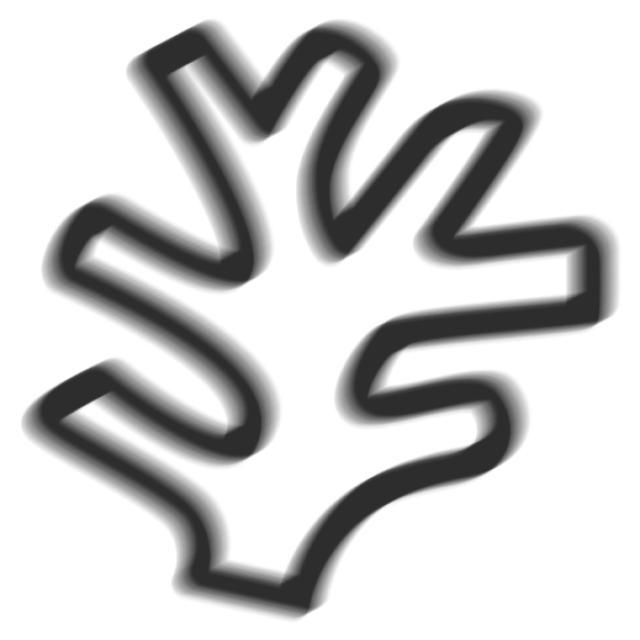coral: (10, 10, 632, 635)
